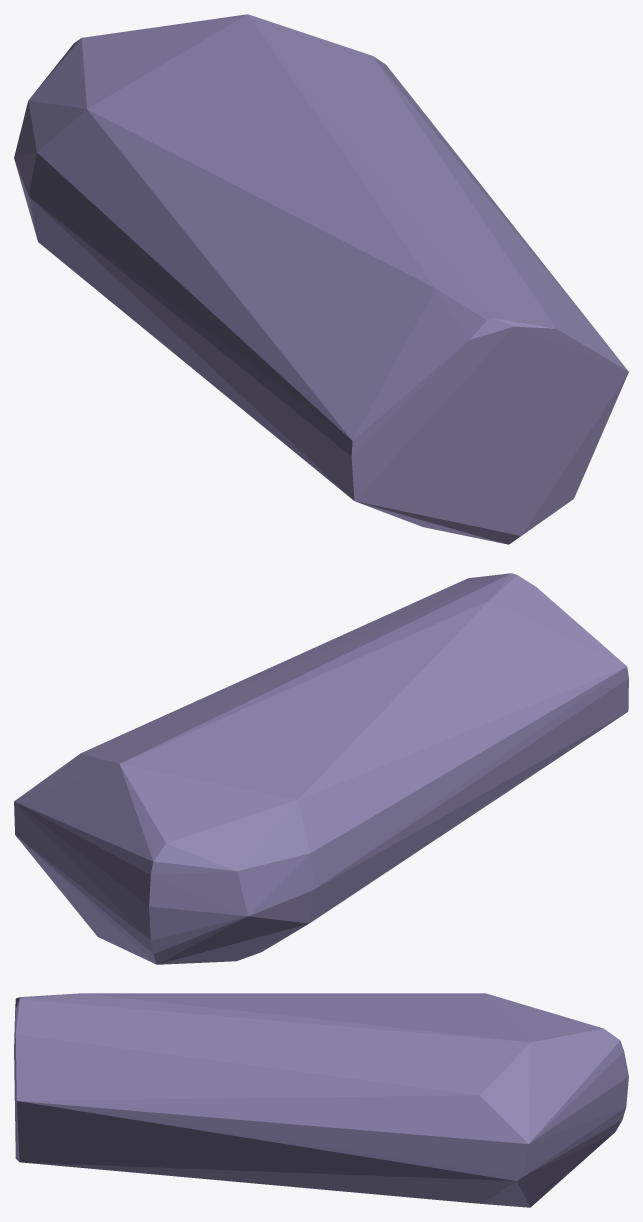
The model's file is dishware_thermos_a01.glb.
The picture shows the model from 3 angles, top to bottom: view 1: azimuth 30°, elevation 25°; view 2: azimuth 150°, elevation 25°; view 3: azimuth 270°, elevation 25°; orthographic projection. The views are drawn at different scales.
Parts seen in each view (by area): view 1: geometry_0; view 2: geometry_0; view 3: geometry_0.
Part boxes in pixels (x1=…): geometry_0: x1=14, y1=14, x2=628, y2=544; geometry_0: x1=14, y1=573, x2=628, y2=964; geometry_0: x1=14, y1=993, x2=628, y2=1207.
Bounding box in the file's own units: 0.2496 × 0.1355 × 0.471.
